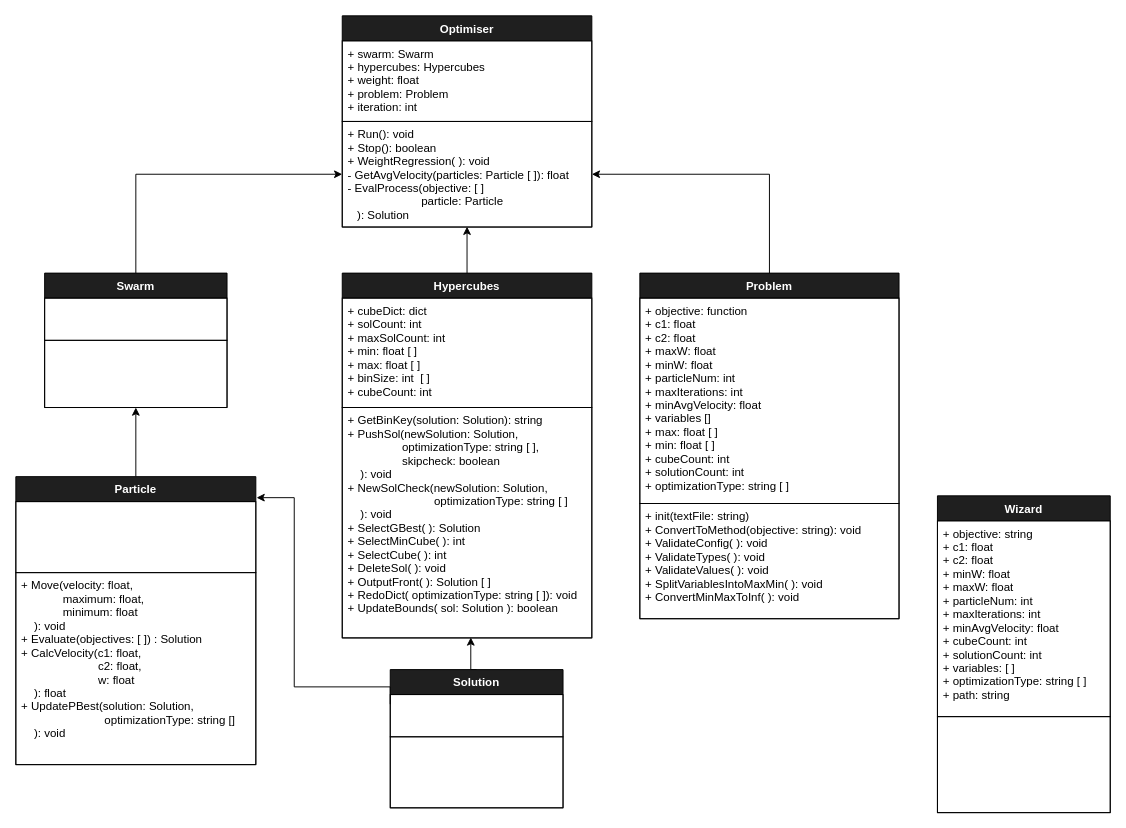
The diagram is 1126 pixels wide and 828 high, and some of its shapes have lost their labels. Here are the shapes that lost their labels. From the top down, the centre of each, then its label:
the point at 135,318: + particles: Particle [ ] + evalCount: int
the point at 135,373: + init(particleNum: int, max: float [ ], min: float [ ] )
the point at 135,537: + pBest: Solution + sBest: Solution + x: float [ ] + velocity: float [ ]
the point at 476,715: + x: float [ ] + objectives: float [ ]
the point at 476,772: + Dominated( solution: Solution, optimizationType: string [ ] ): int
the point at 1023,764: + Start( ): void + CreateConfig( ): void + Clear( ): void
